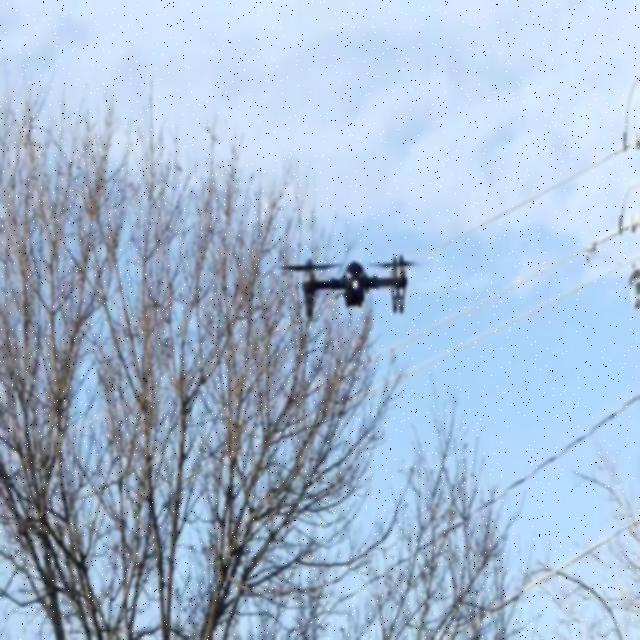UAV: (276, 254, 424, 323)
